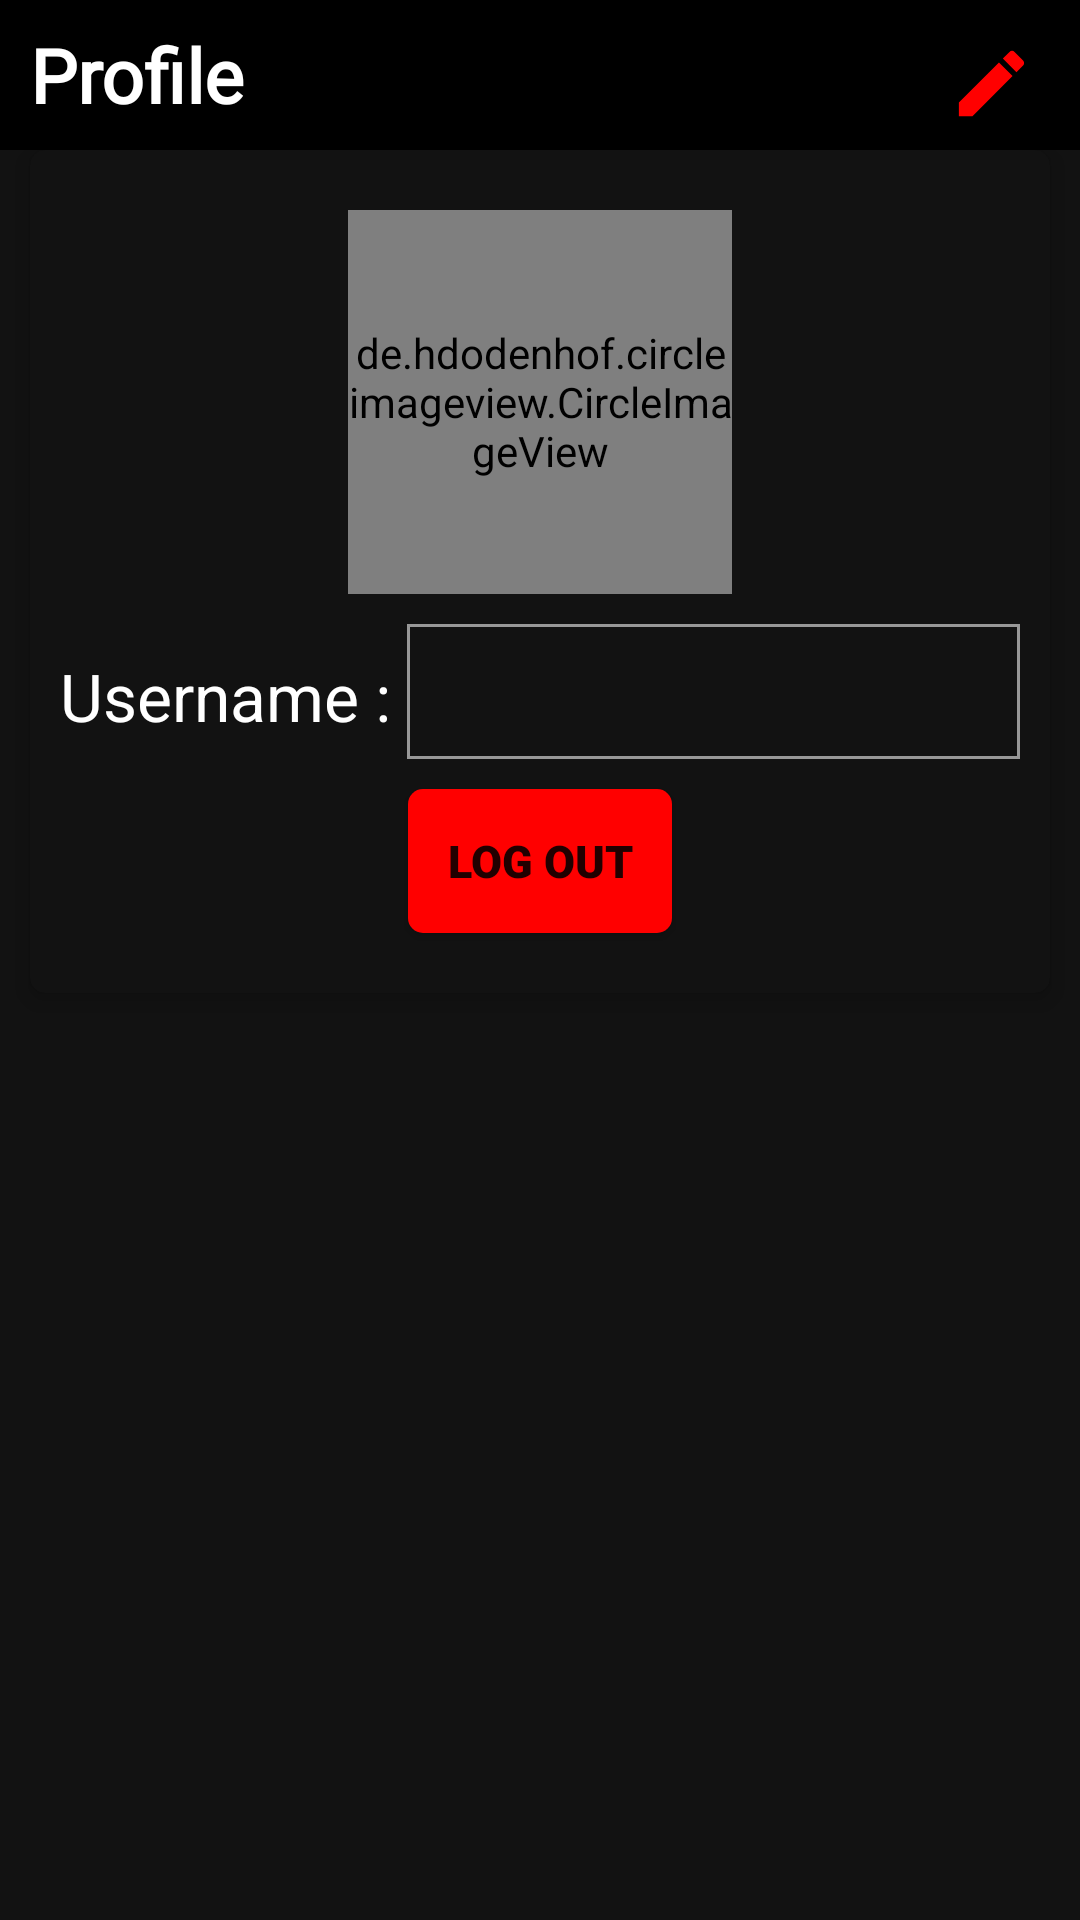

Icon bounding boxes for this 1080x1920 phone screenshot, format (x1, y1, x2, y2):
edit pen: (958, 50, 1024, 117)
